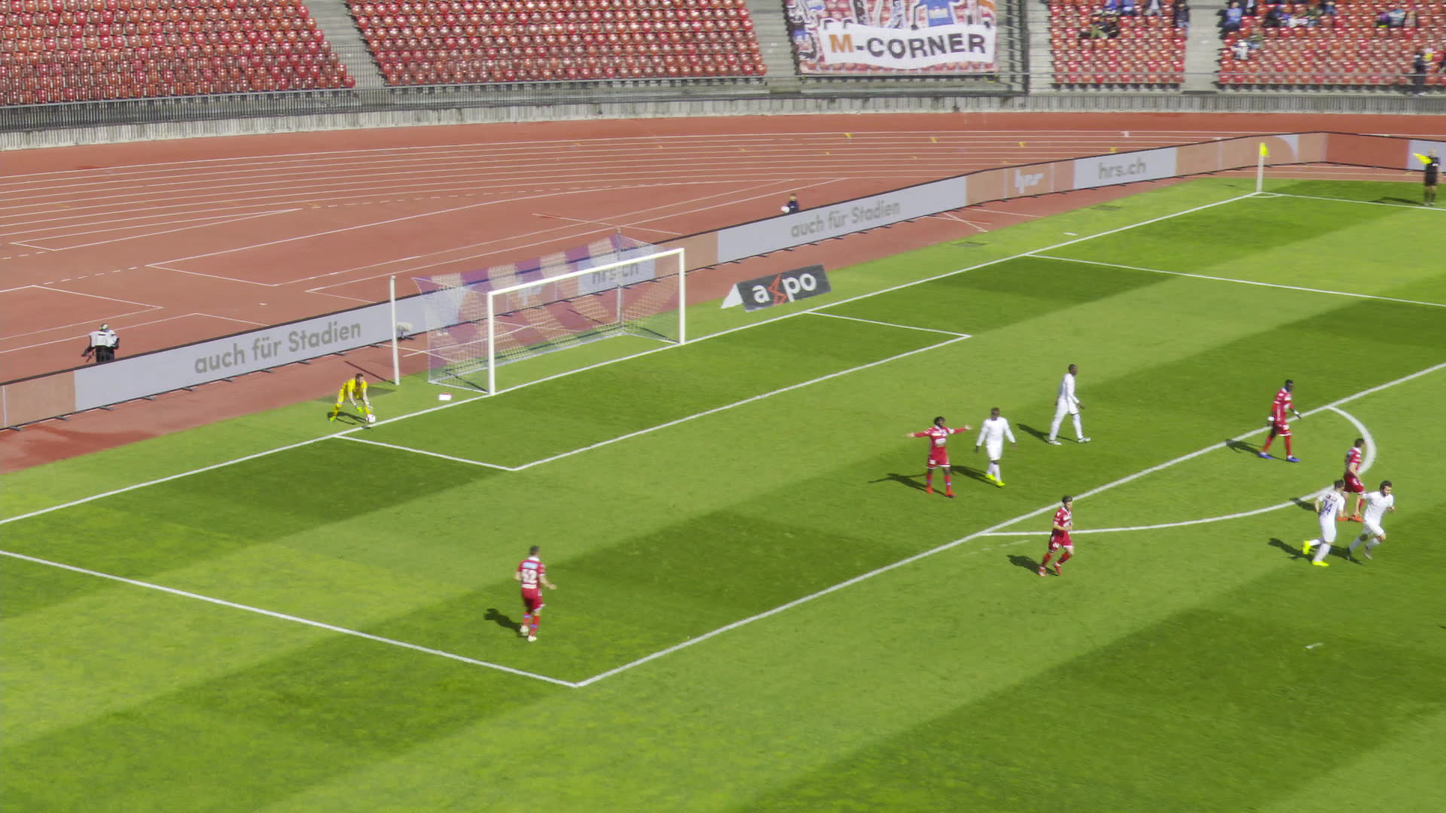ball: (365, 413, 374, 424)
player: (909, 416, 976, 497), (1296, 478, 1347, 568), (517, 545, 560, 643), (1350, 482, 1396, 565), (978, 405, 1019, 486), (1264, 379, 1301, 462), (1052, 364, 1088, 446), (1042, 498, 1076, 579), (1340, 438, 1369, 524), (331, 374, 374, 422)
referee: (1426, 147, 1441, 201)
